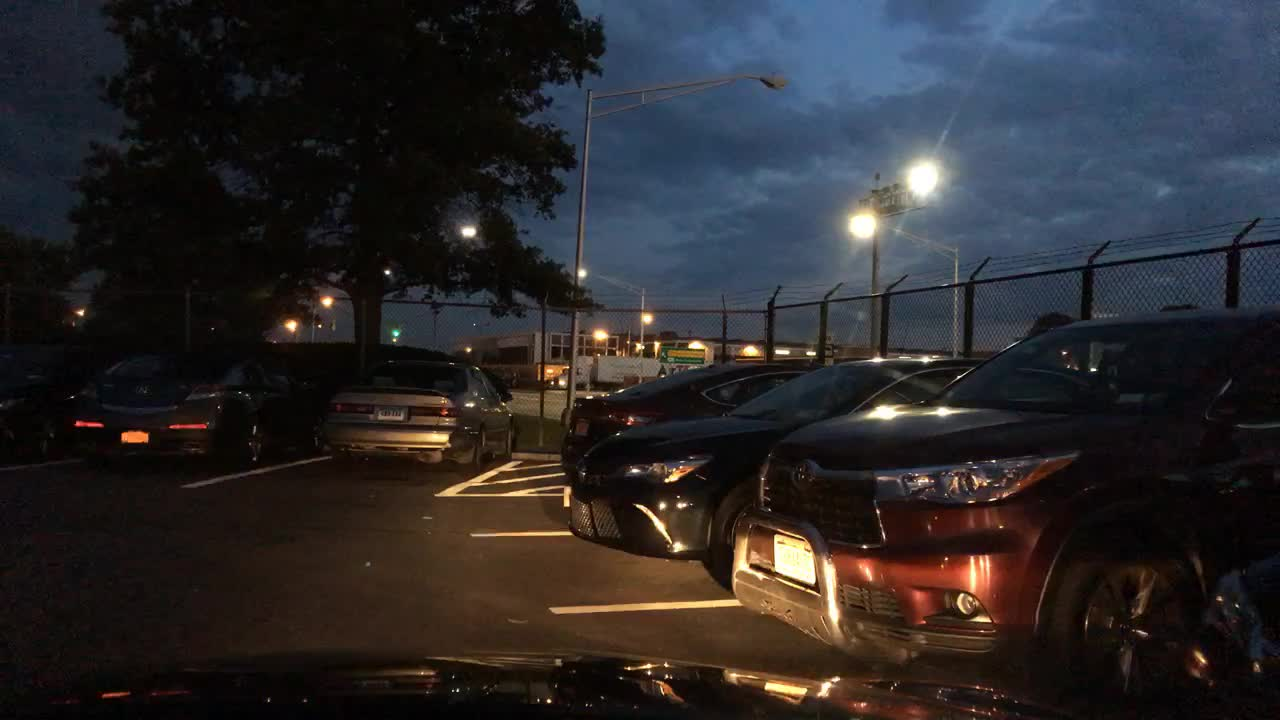car: (725, 300, 1279, 715), (568, 354, 989, 558), (60, 341, 327, 467), (558, 361, 820, 476), (324, 356, 514, 469), (0, 336, 123, 466), (1186, 555, 1279, 719)
traffic sign: (656, 344, 705, 363)
